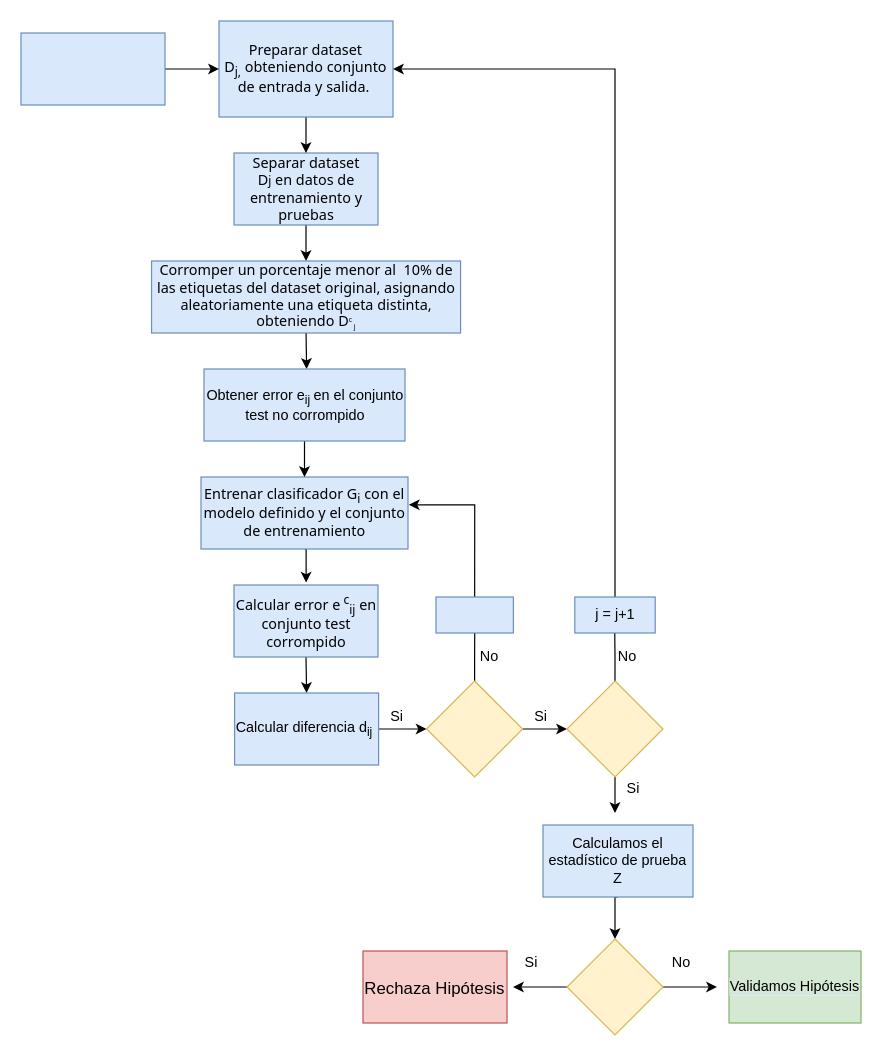
Image size: 882x1056. Some labels were removed from this diagram. Here are the shapes that lost their labels. From the top down, the centre of each, then its label:
At (92,68): "i = 0, j = 0".
At (474,614): "i = i+1".
At (474,728): "¿i==n?".
At (614,728): "¿j==2?".
At (614,986): "¿P< α ?".
